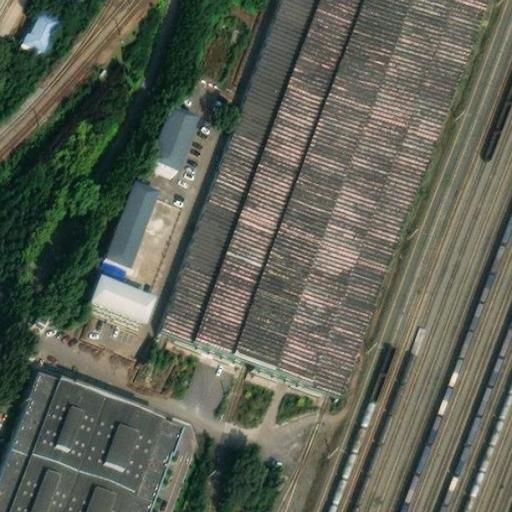building: (162, 0, 487, 385), (100, 171, 161, 274), (148, 89, 203, 161), (90, 264, 161, 316), (22, 3, 56, 47), (26, 303, 52, 331)
